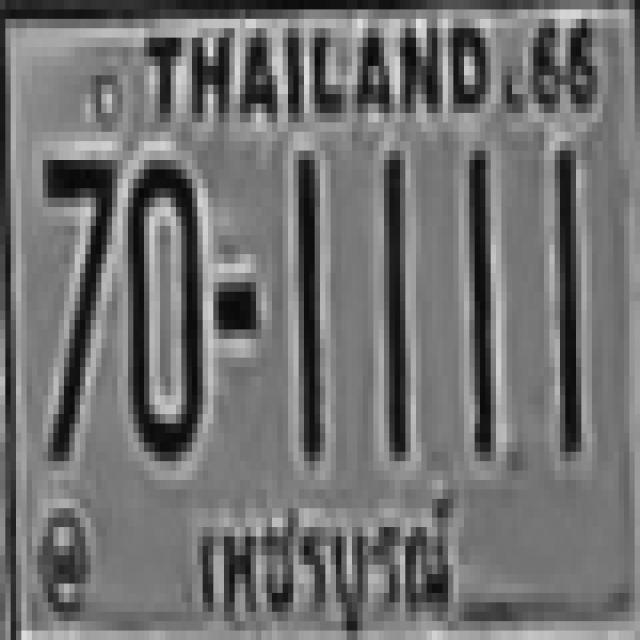0: (131, 150, 205, 452)
1: (557, 141, 584, 452), (469, 150, 496, 452), (384, 150, 411, 452), (299, 146, 325, 456)
7: (43, 150, 117, 452)
Phetchabun: (176, 470, 464, 640)
